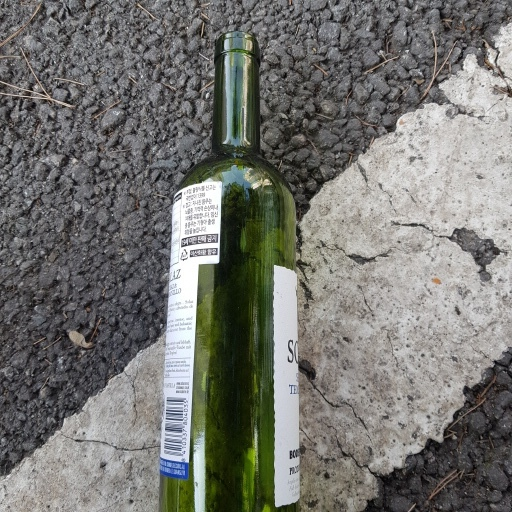Glass_2: (155, 32, 300, 512)
